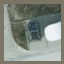car: (28, 23, 41, 42)
